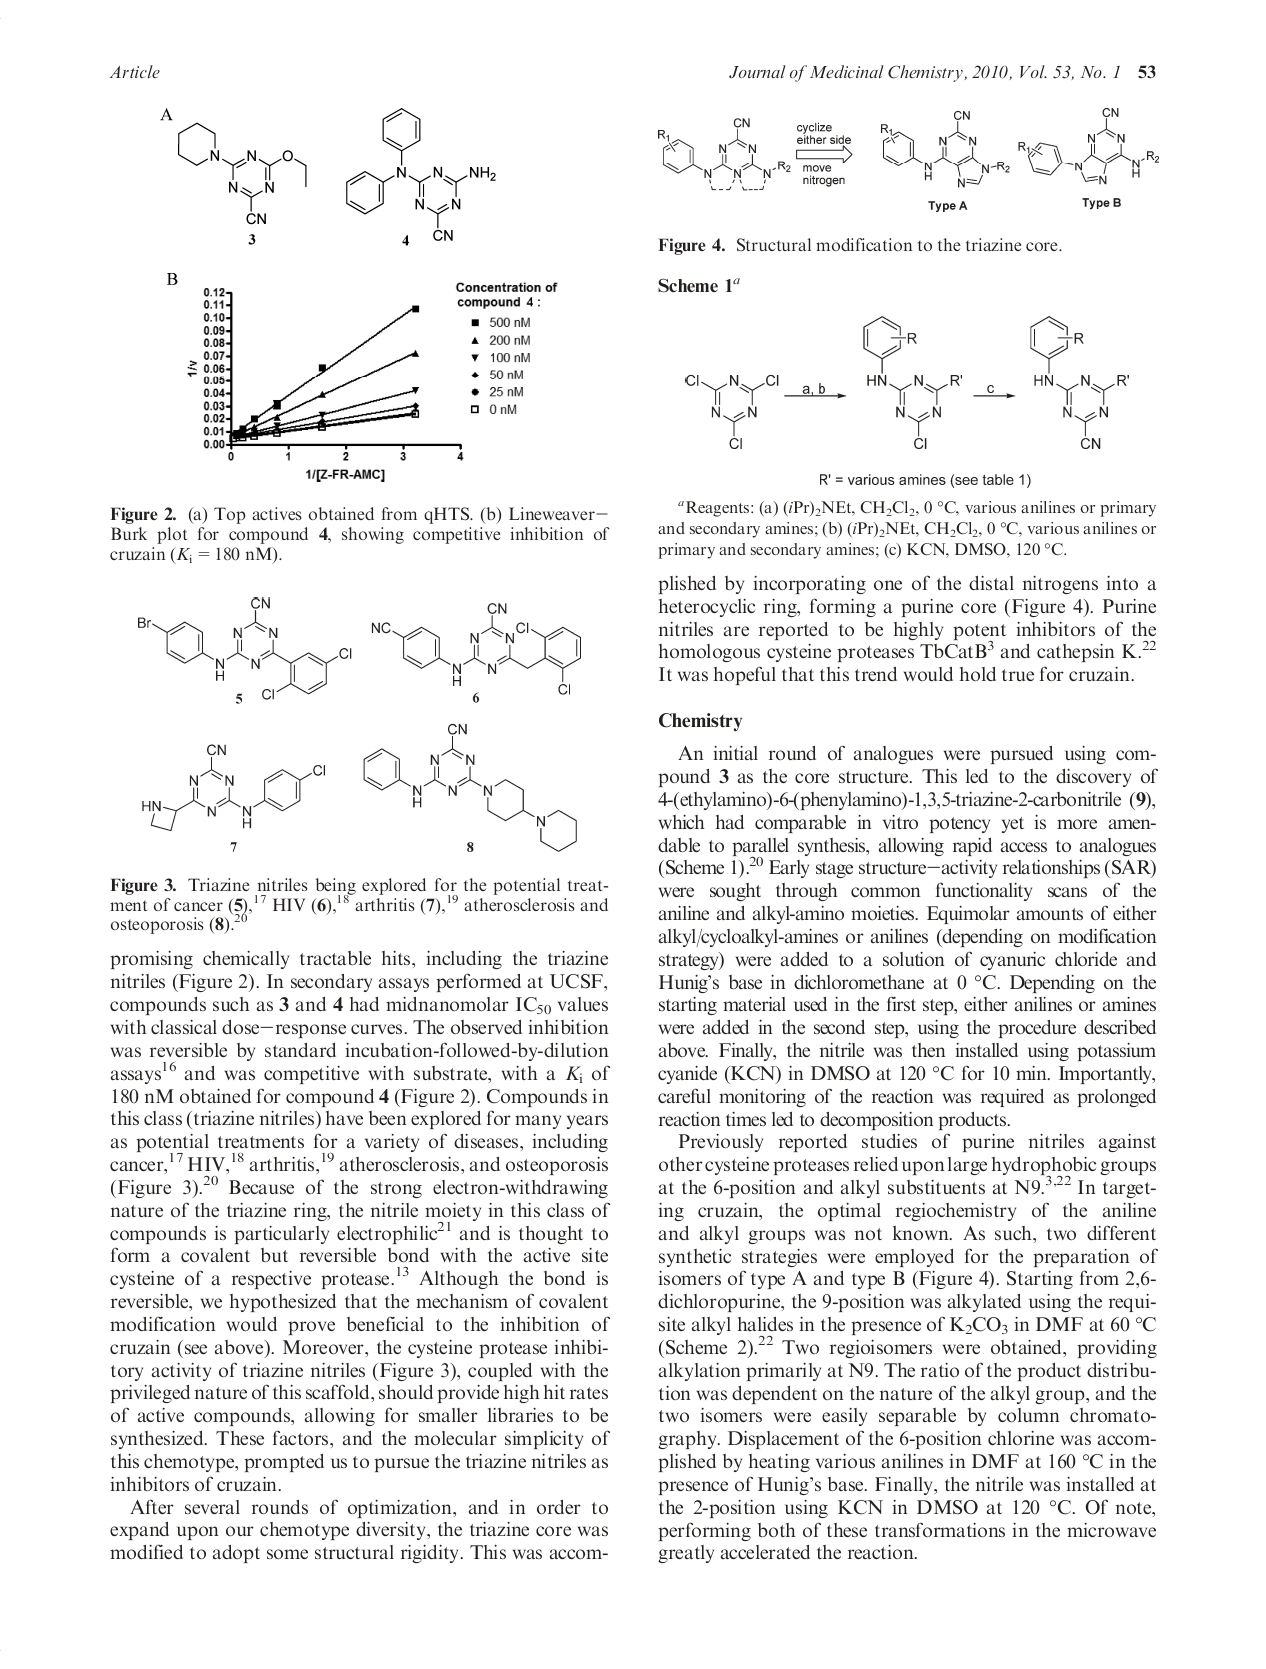exist_molecular: (362, 723, 578, 855), (134, 594, 355, 704), (368, 597, 585, 696), (344, 105, 497, 243), (140, 743, 328, 834), (859, 313, 964, 451), (174, 120, 310, 226), (1028, 313, 1130, 451), (1015, 105, 1161, 186), (656, 112, 793, 193), (880, 109, 1012, 189), (682, 368, 783, 449)
